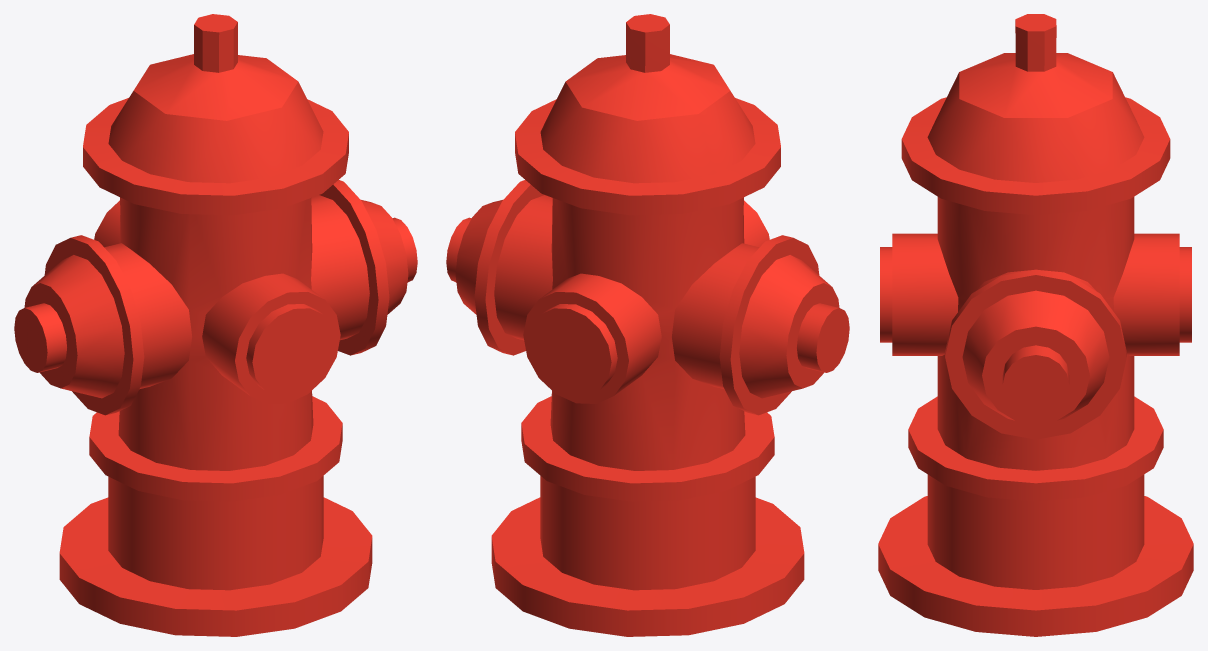
File: P_Hydrant.dae
The picture shows the model from 3 angles, left to right: view 1: azimuth 30°, elevation 25°; view 2: azimuth 150°, elevation 25°; view 3: azimuth 270°, elevation 25°; orthographic projection.
Visible parts, largest first — view 1: Hydarnt; view 2: Hydarnt; view 3: Hydarnt.
Part boxes in pixels (x1,y1,x2,y2): Hydarnt: (14,14,417,636); Hydarnt: (446,14,849,636); Hydarnt: (878,14,1193,636).
Bounding box in the file's own units: 0.6991 × 0.5161 × 0.9882.
